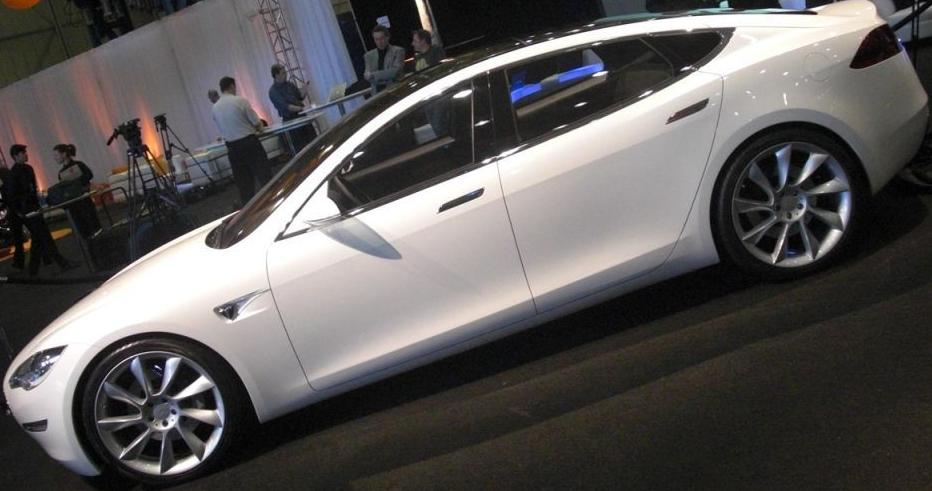backlight: (846, 16, 909, 81)
headlight: (8, 341, 89, 391)
side_glass: (321, 37, 695, 225)
